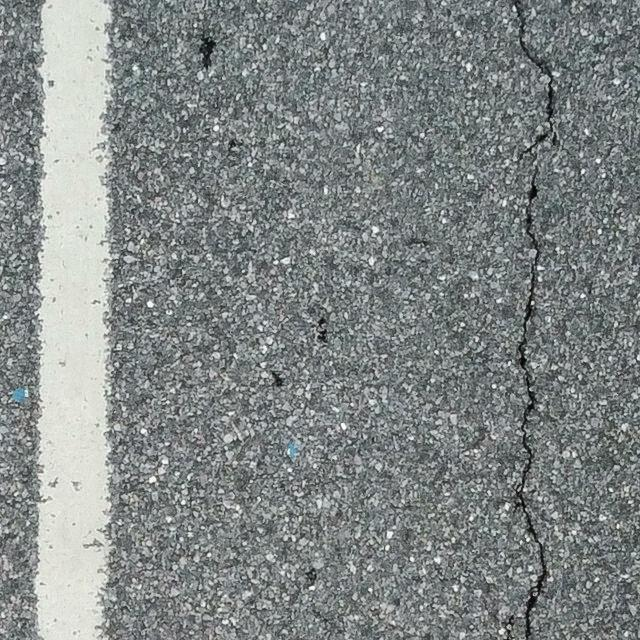LongitudinalCrack: (511, 4, 555, 640)
